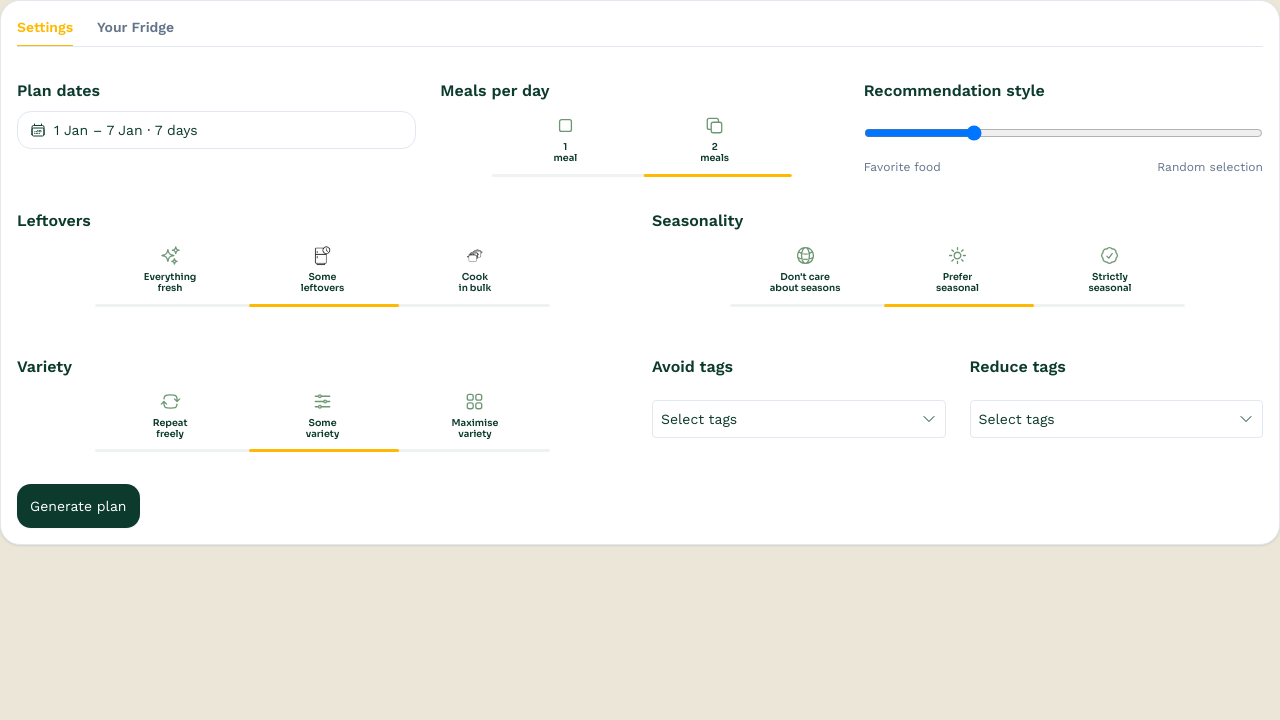
Test case: resting on Meals per day explains what it does
expect the text "Meals per day" is shown: met, box [440,81,550,100]
Hover over the text "Meals per day" at (640, 128), box [440,79,840,177]
Wait 2000 ms
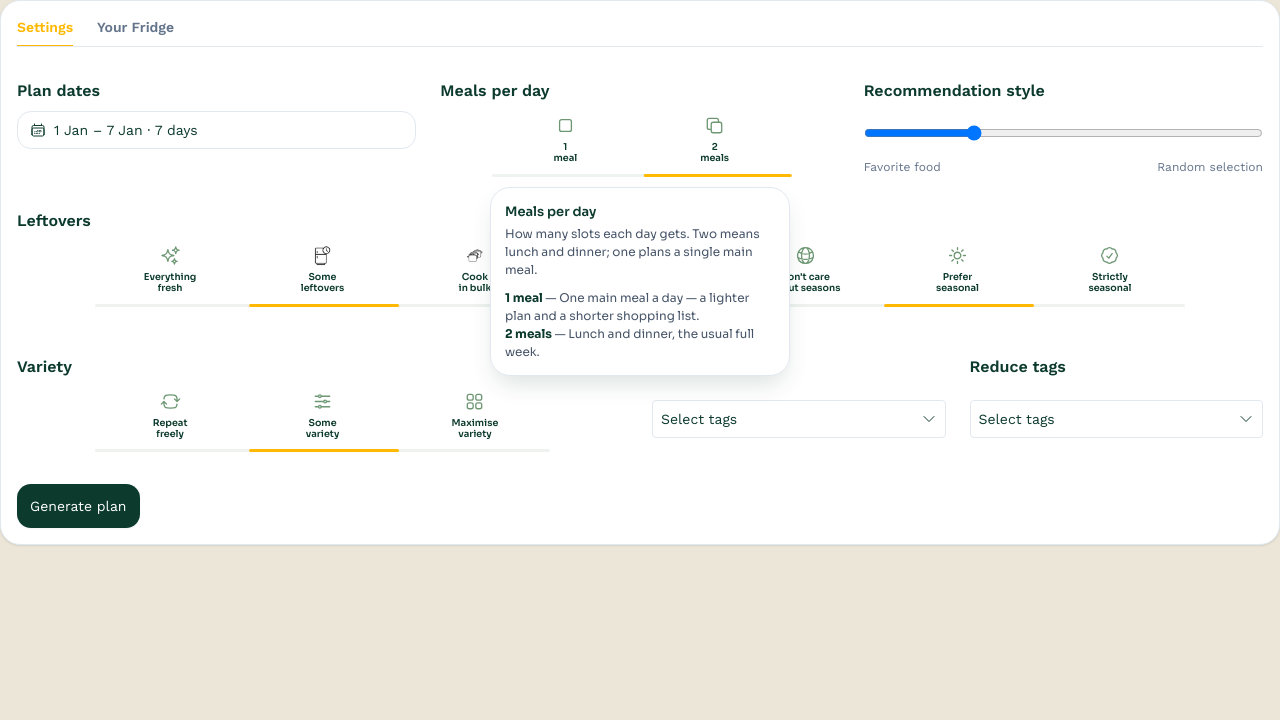
expect the tooltip shows "How many slots each day gets.": met, box [505,226,760,277]
